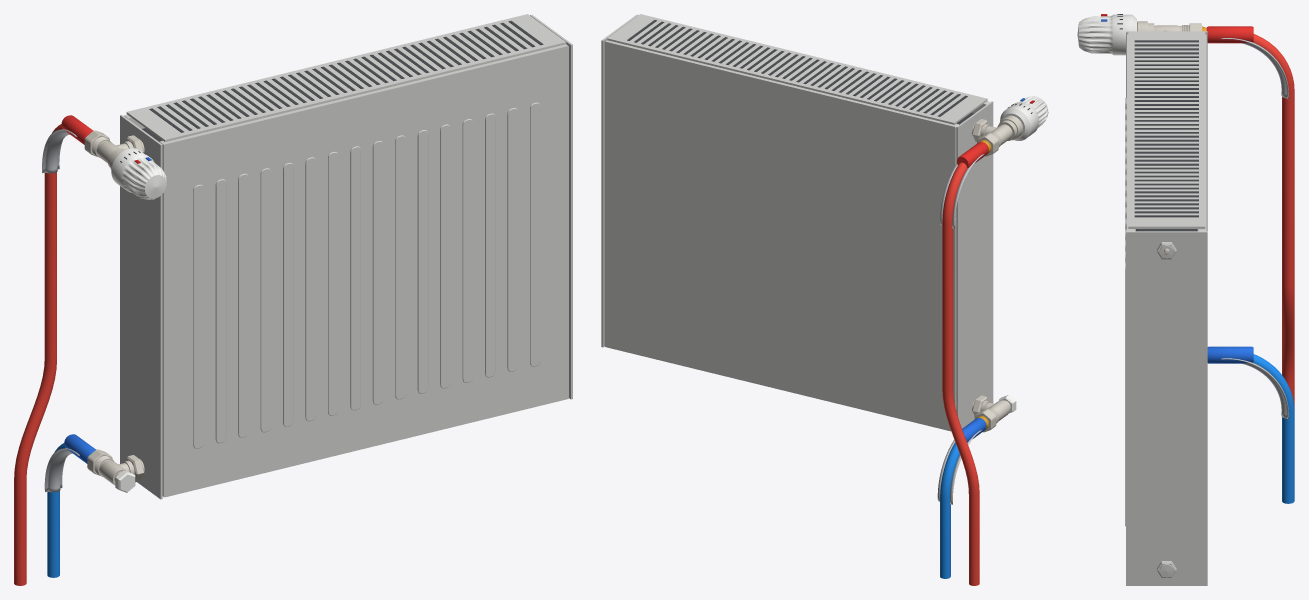
Rendered from panel_node_panel22_angled.glb.
The picture shows the model from 3 angles, left to right: view 1: azimuth 30°, elevation 25°; view 2: azimuth 150°, elevation 25°; view 3: azimuth 270°, elevation 25°; orthographic projection. The views are drawn at different scales.
Parts seen in each view (by area): view 1: панель, боковина, решётка, труба 16, риф.001, риф.008, риф.010, риф.003, риф.004, риф.006, риф.009, риф.002 (+13 smaller); view 2: панель.001, боковина, решётка, труба 16, труба 16.001, боковина.001, термоголовка; view 3: боковина.001, решётка, труба 16, термоголовка, труба 16.001, втулка.001, втулка, панель, фиксатор 90.001, фиксатор 90, боковина, панель.001.
Boxes of the visible parts, box(x1,y1,x2,y2) form: панель: box(160, 44, 568, 497); боковина: box(120, 115, 162, 499); решётка: box(126, 14, 566, 141); труба 16: box(14, 124, 62, 585); риф.001: box(215, 179, 226, 443); риф.008: box(372, 141, 383, 404); риф.010: box(417, 130, 428, 393); риф.003: box(260, 168, 270, 432); риф.004: box(283, 162, 293, 426); риф.006: box(328, 151, 338, 415); риф.009: box(395, 135, 405, 399); риф.002: box(238, 173, 248, 437); панель.001: box(604, 40, 958, 431); боковина: box(956, 101, 993, 428); решётка: box(607, 14, 987, 124); труба 16: box(942, 162, 979, 585); труба 16.001: box(940, 442, 959, 578); боковина.001: box(601, 14, 638, 347); термоголовка: box(1000, 96, 1048, 140); боковина.001: box(1126, 231, 1207, 585); решётка: box(1128, 31, 1205, 228); труба 16: box(1253, 34, 1294, 408); термоголовка: box(1077, 14, 1136, 55); труба 16.001: box(1253, 354, 1294, 503); втулка.001: box(1207, 346, 1253, 363); втулка: box(1206, 26, 1253, 43); панель: box(1126, 34, 1135, 231); фиксатор 90.001: box(1221, 358, 1288, 420); фиксатор 90: box(1221, 38, 1288, 99); боковина: box(1126, 31, 1207, 231); панель.001: box(1198, 34, 1206, 231).
Size of the model in its own units: 0.716 by 0.6835 by 0.277.
